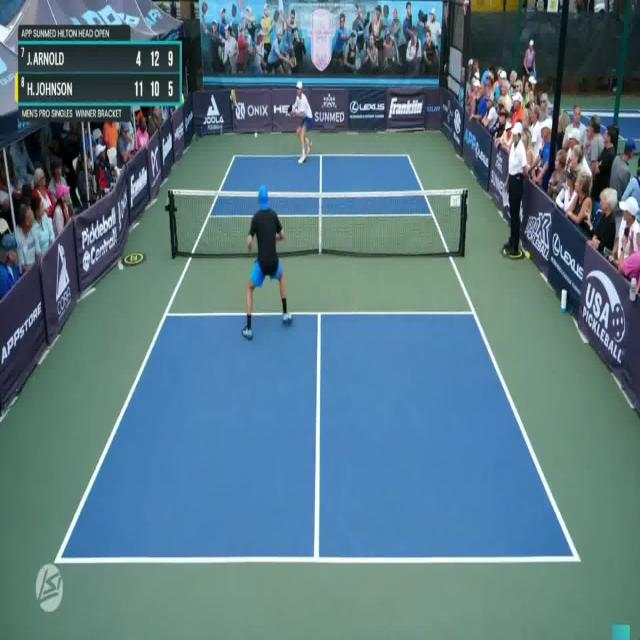Court: (59, 154, 578, 562)
ball: (253, 128, 261, 142)
